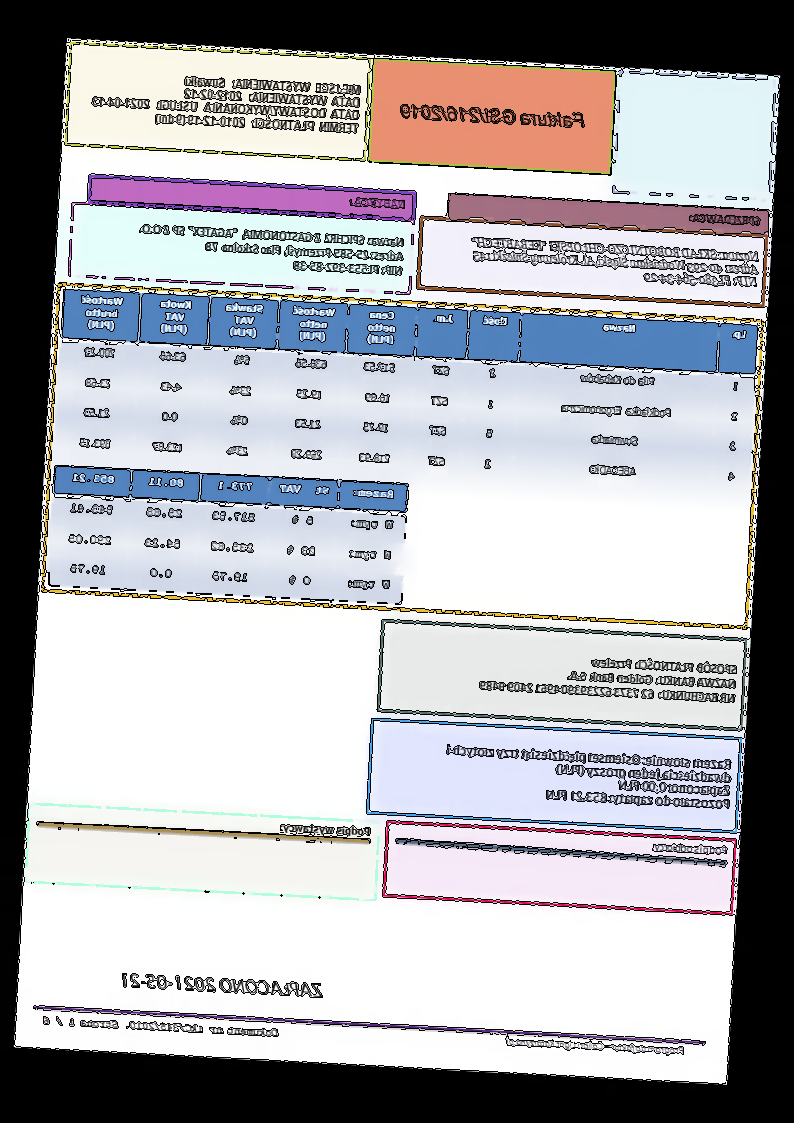Table: (54, 287, 760, 498), (48, 465, 409, 606)
TextBox: (441, 742, 734, 812), (90, 67, 363, 136), (466, 235, 761, 291), (135, 222, 406, 277), (479, 648, 739, 705), (119, 969, 326, 1002), (41, 1014, 282, 1040), (399, 101, 588, 130), (503, 1035, 687, 1058), (278, 820, 373, 840), (651, 839, 730, 859), (689, 210, 763, 228), (349, 195, 407, 211)
